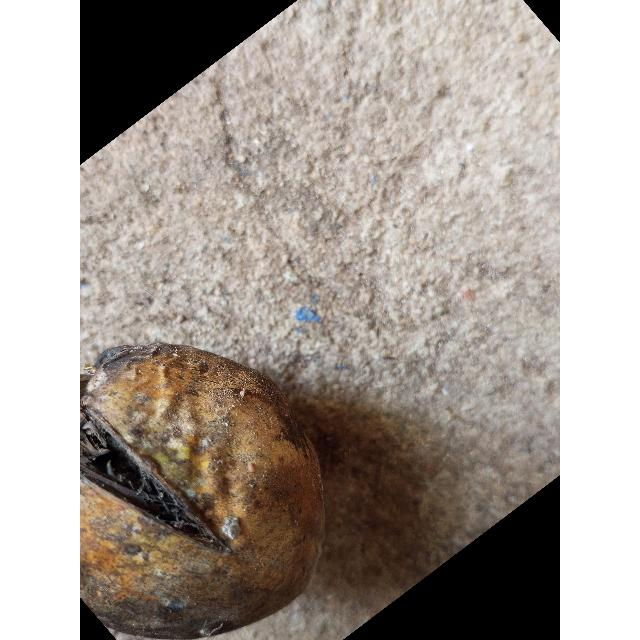damaged: (80, 343, 325, 640)
